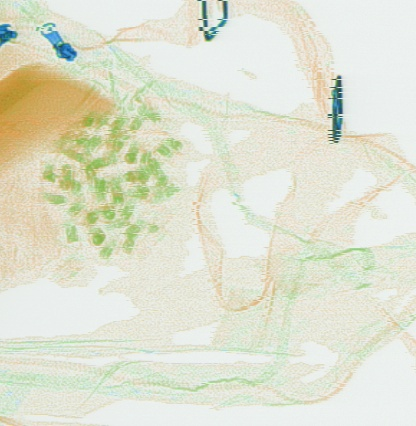firecrackers: (36, 79, 188, 260)
